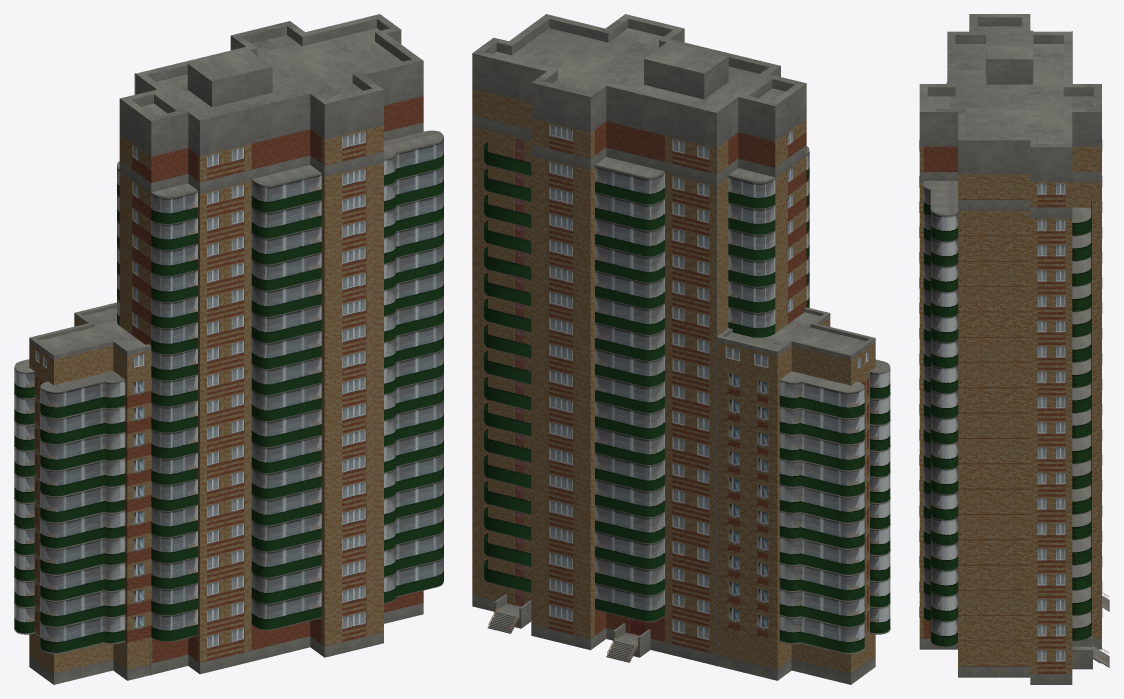
Rendered from building2.FBX.
3 renders of one model, left to right at view 1: azimuth 30°, elevation 25°; view 2: azimuth 150°, elevation 25°; view 3: azimuth 270°, elevation 25°, orthographic. The views are drawn at different scales.
Parts seen in each view (by area): view 1: Object004, Object038, Shape001, Shape002, Object063, Shape004, Shape009, Shape003, Shape005, Shape008, Shape006, Shape007; view 2: Object004, Object038, Shape001, Shape008, Shape009, Shape005, Object063, Shape004, Shape003, Shape007, Shape002, Shape006; view 3: Object004.
Boxes of the visible parts, x1=… form: Object004: x1=14, y1=14, x2=443, y2=674; Object038: x1=29, y1=633, x2=150, y2=684; Shape001: x1=14, y1=368, x2=151, y2=419; Shape002: x1=14, y1=395, x2=151, y2=445; Object063: x1=14, y1=604, x2=151, y2=654; Shape004: x1=14, y1=447, x2=151, y2=497; Shape009: x1=14, y1=578, x2=151, y2=628; Shape003: x1=14, y1=421, x2=151, y2=471; Shape005: x1=14, y1=473, x2=151, y2=523; Shape008: x1=14, y1=552, x2=151, y2=601; Shape006: x1=14, y1=500, x2=151, y2=549; Shape007: x1=14, y1=526, x2=151, y2=575; Object004: x1=472, y1=14, x2=890, y2=666; Object038: x1=717, y1=628, x2=875, y2=684; Shape001: x1=717, y1=367, x2=890, y2=419; Shape008: x1=717, y1=550, x2=890, y2=602; Shape009: x1=717, y1=576, x2=890, y2=628; Shape005: x1=717, y1=472, x2=890, y2=523; Object063: x1=717, y1=602, x2=890, y2=654; Shape004: x1=717, y1=445, x2=890, y2=497; Shape003: x1=717, y1=419, x2=890, y2=471; Shape007: x1=717, y1=524, x2=890, y2=575; Shape002: x1=717, y1=393, x2=890, y2=445; Shape006: x1=717, y1=498, x2=890, y2=549; Object004: x1=919, y1=14, x2=1109, y2=684.
Size of the model in its own units: 1492 by 2151 by 671.
Materials: 13 (11 with a texture image).
